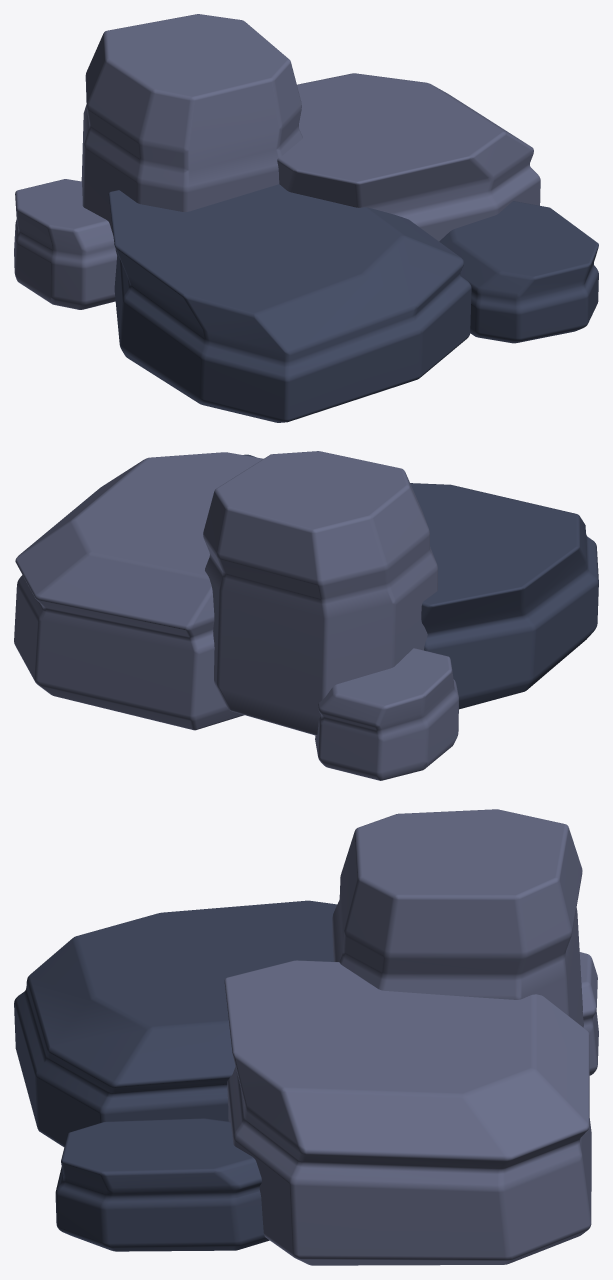
Rendered from SM_CC_RockRubble.fbx.
The picture shows the model from 3 angles, top to bottom: view 1: azimuth 30°, elevation 25°; view 2: azimuth 150°, elevation 25°; view 3: azimuth 270°, elevation 25°; orthographic projection. The views are drawn at different scales.
Parts seen in each view (by area): view 1: SM_CC_RockRubble; view 2: SM_CC_RockRubble; view 3: SM_CC_RockRubble.
Boxes of the visible parts, <box> form: SM_CC_RockRubble: <box>14,14,598,422</box>; SM_CC_RockRubble: <box>14,451,598,780</box>; SM_CC_RockRubble: <box>14,809,598,1265</box>.
Bounding box in the file's own units: 0.9996 × 0.9983 × 0.4998.
